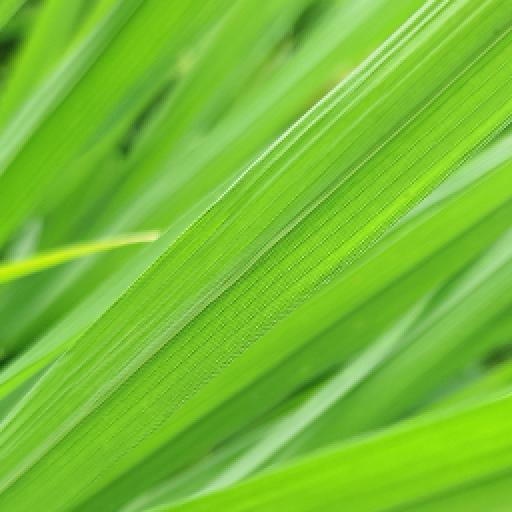Healthy Leaf: (6, 8, 502, 512)
